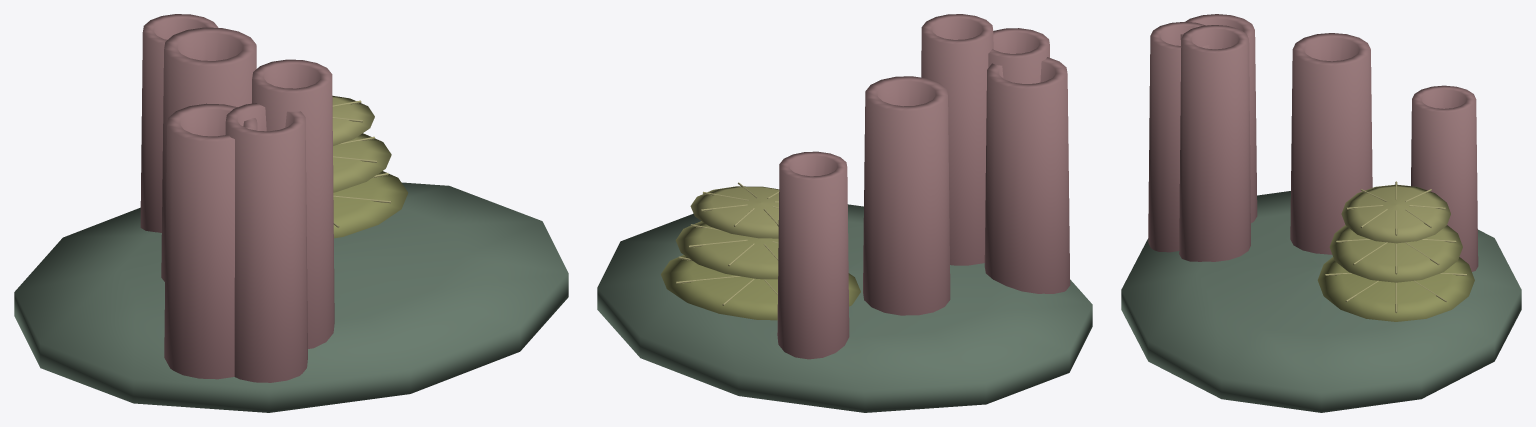
The model's file is Reef1.fbx.
3 views of the same model, side by side, from view 1: azimuth 30°, elevation 25°; view 2: azimuth 150°, elevation 25°; view 3: azimuth 270°, elevation 25° (orthographic). The views are drawn at different scales.
Parts seen in each view (by area): view 1: Hollow sponges, branching sea fans and ribbed plate coral; view 2: Hollow sponges, branching sea fans and ribbed plate coral; view 3: Hollow sponges, branching sea fans and ribbed plate coral.
Boxes of the visible parts, left/top/right/bottom form: Hollow sponges, branching sea fans and ribbed plate coral: left=14, top=14, right=568, bottom=412; Hollow sponges, branching sea fans and ribbed plate coral: left=597, top=14, right=1092, bottom=412; Hollow sponges, branching sea fans and ribbed plate coral: left=1121, top=14, right=1521, bottom=412.
Bounding box in the file's own units: 2.66 × 1.62 × 2.19.
